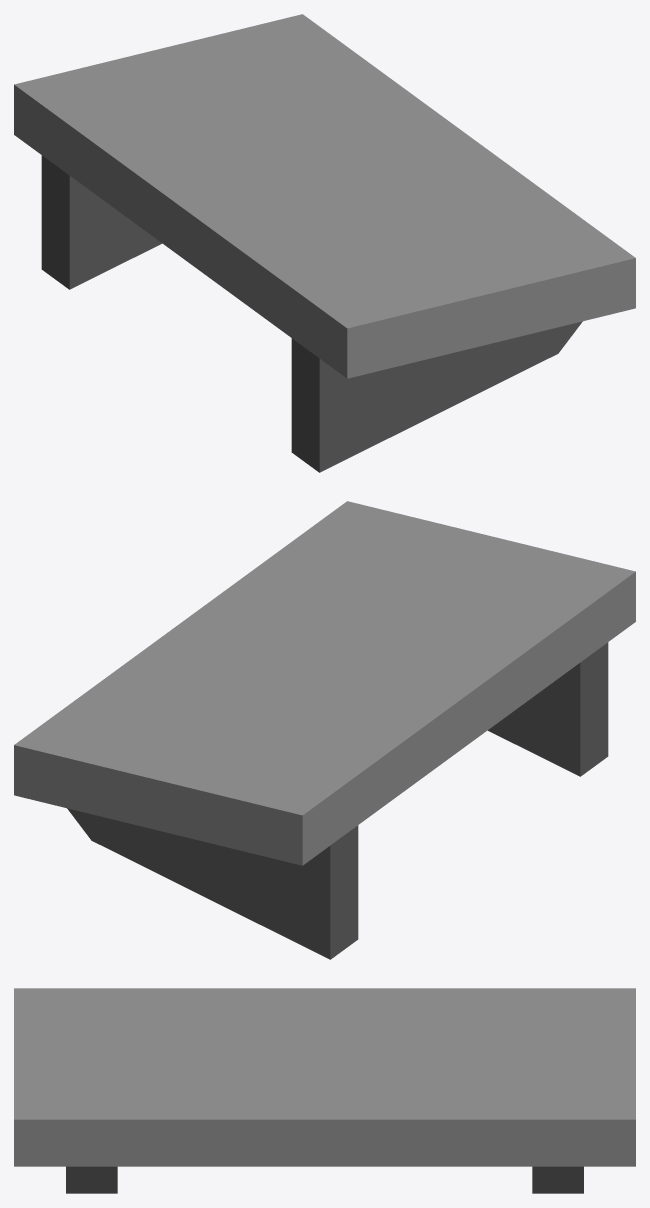
The model's file is Props_StorageRoom_Shelf.fbx.
3 renders of one model, top to bottom at view 1: azimuth 30°, elevation 25°; view 2: azimuth 150°, elevation 25°; view 3: azimuth 270°, elevation 25°, orthographic. The views are drawn at different scales.
Parts seen in each view (by area): view 1: Cube.003; view 2: Cube.003; view 3: Cube.003.
Part boxes in pixels (<box>): Cube.003: <box>14,14,635,472</box>; Cube.003: <box>14,501,635,959</box>; Cube.003: <box>14,988,635,1193</box>.
Size of the model in its own units: 200 by 109 by 400.
